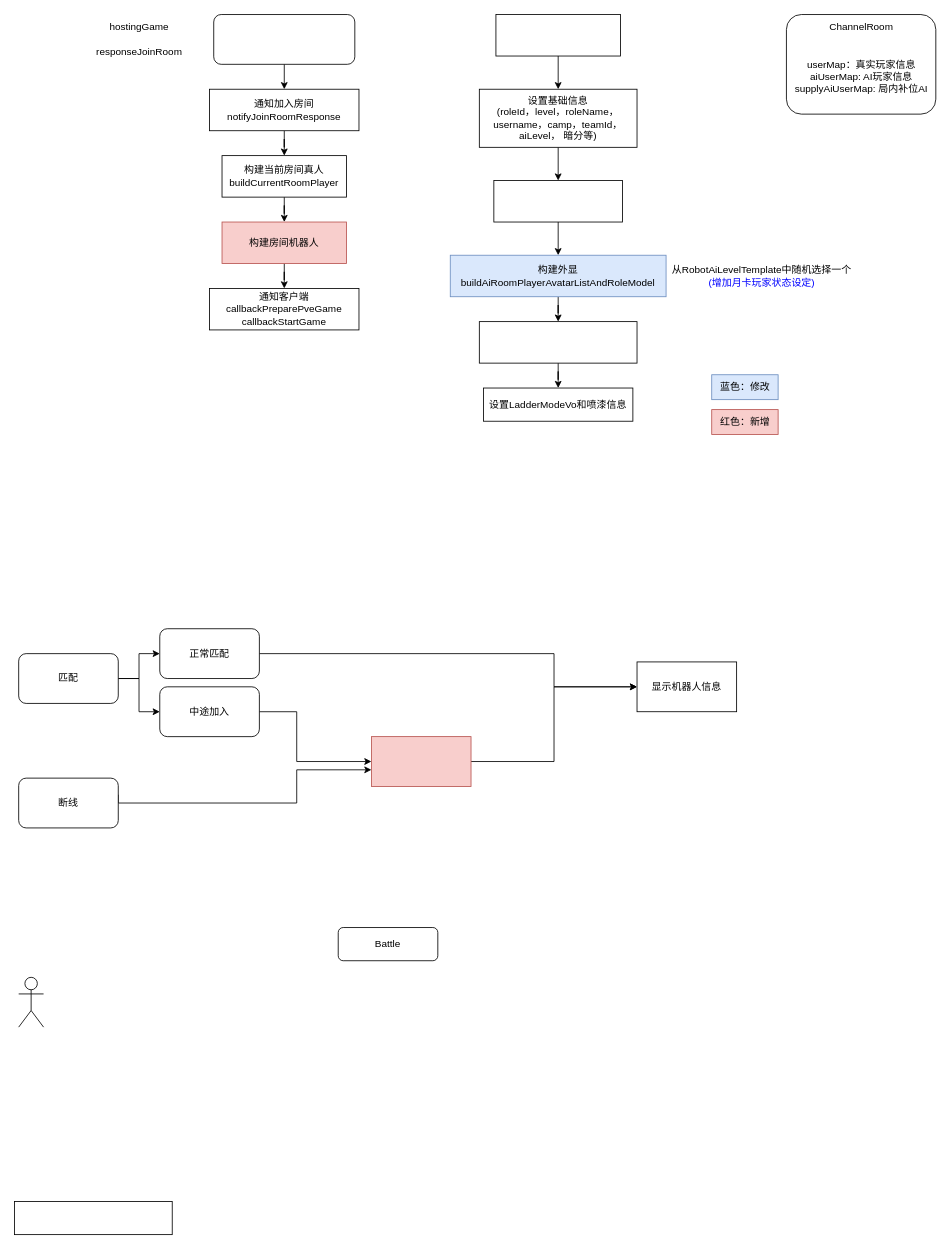
Some shapes in this 950 by 1249 pixel diagram are drawn without their labels. Each missing label, with the centre of its shape:
"Lobby" belongs at point 31,1001.
"responseJoinRoomList" belongs at point 93,1218.
"局内告知剔除机器人 信息" belongs at point 421,761.
"开局 加入房间（重连）" belongs at point 284,39.
"构建房间机器人 buildAiRoomUser" belongs at point 557,35.
"构建武器背包 buildAiRoomPlayerWeaponBag" belongs at point 557,342.
"根据AI等级 获取RobotAiLevelTemplate" belongs at point 557,201.
